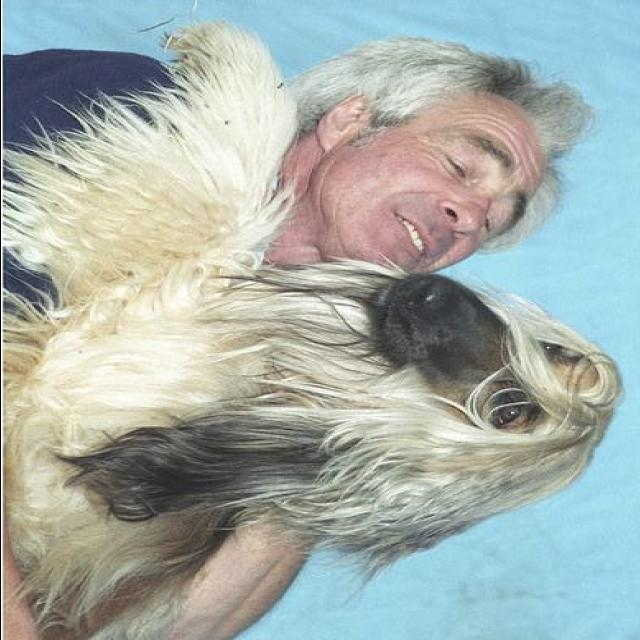afghan_hound: (2, 19, 620, 640)
